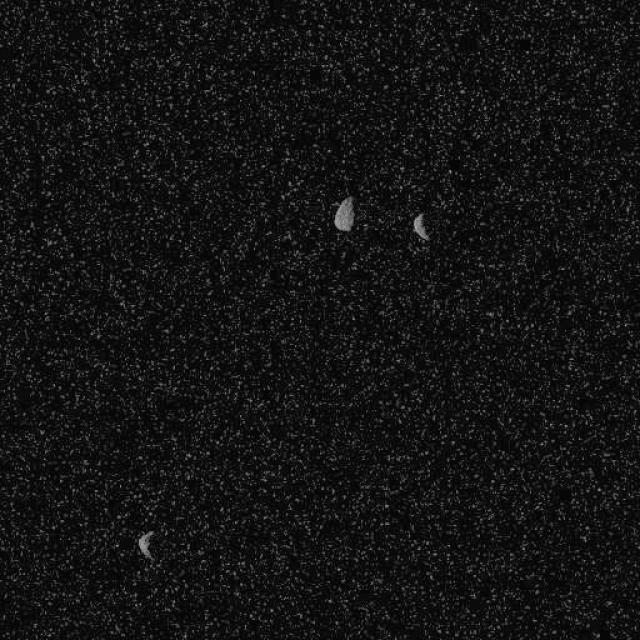D2: (333, 195, 355, 231), (136, 529, 155, 560), (411, 211, 430, 241)
